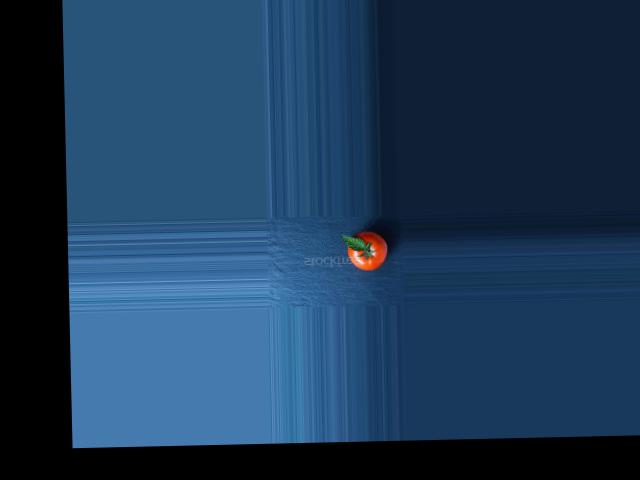tomato: (347, 231, 388, 270)
